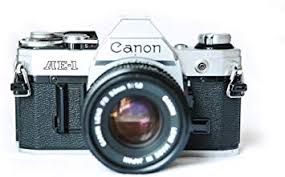camera: (16, 30, 242, 163)
